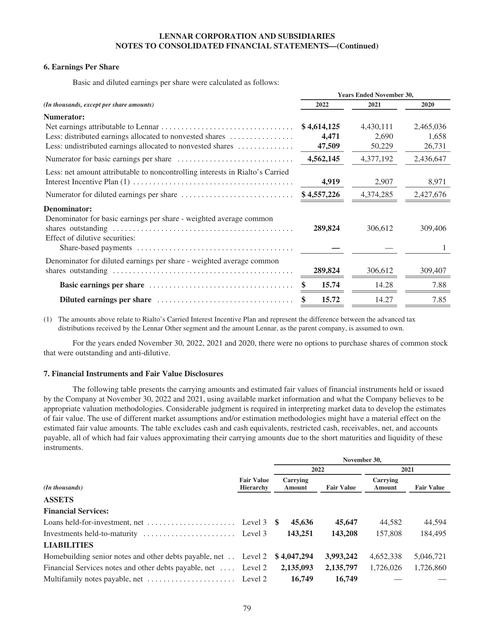box: (42, 90, 451, 310), (40, 456, 449, 586)
